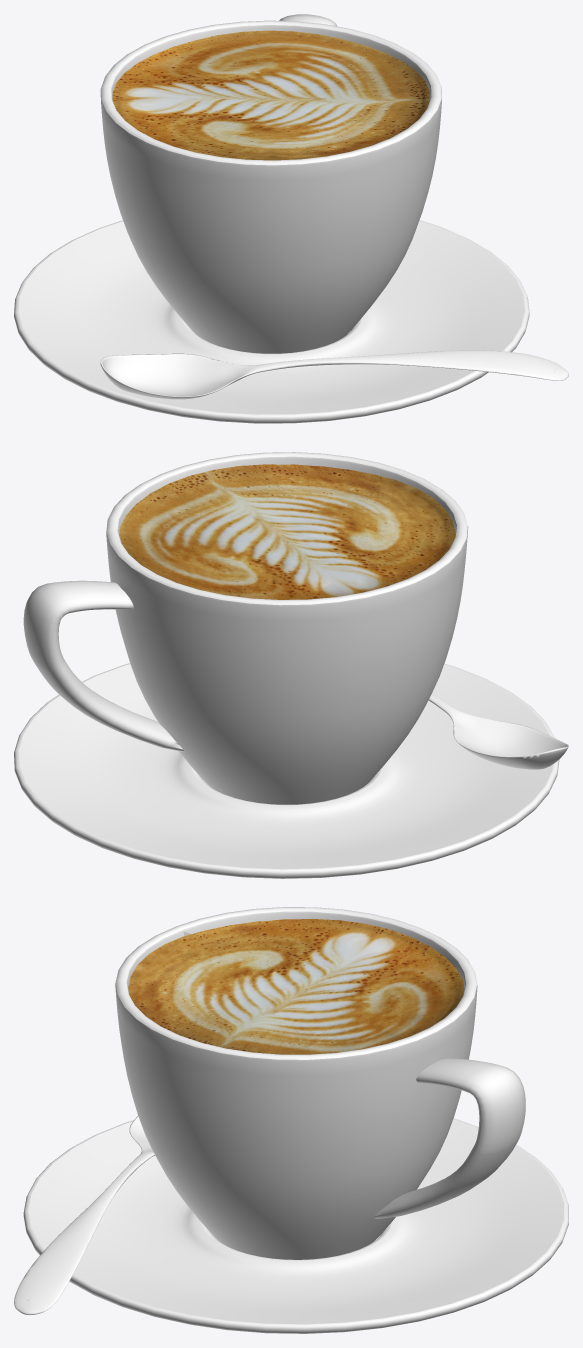
File: CafeMesaUno.obj
3 views of the same model, one above another, from view 1: azimuth 30°, elevation 25°; view 2: azimuth 150°, elevation 25°; view 3: azimuth 270°, elevation 25° (orthographic). The views are drawn at different scales.
Visible parts, largest first — view 1: ShowcaseFinal23:ShowcaseFinal:StrBucks:Cup1 group25 pasted__poly, pasted__polySurface2687 ShowcaseFinal23:ShowcaseFinal:StrBucks:C; view 2: ShowcaseFinal23:ShowcaseFinal:StrBucks:Cup1 group25 pasted__poly, pasted__polySurface2687 ShowcaseFinal23:ShowcaseFinal:StrBucks:C; view 3: ShowcaseFinal23:ShowcaseFinal:StrBucks:Cup1 group25 pasted__poly, pasted__polySurface2687 ShowcaseFinal23:ShowcaseFinal:StrBucks:C.
Part boxes in pixels (box(x1,y1,x2,y2)): ShowcaseFinal23:ShowcaseFinal:StrBucks:Cup1 group25 pasted__poly: box(100, 14, 568, 399); pasted__polySurface2687 ShowcaseFinal23:ShowcaseFinal:StrBucks:C: box(14, 220, 529, 423); ShowcaseFinal23:ShowcaseFinal:StrBucks:Cup1 group25 pasted__poly: box(23, 452, 568, 804); pasted__polySurface2687 ShowcaseFinal23:ShowcaseFinal:StrBucks:C: box(14, 663, 559, 878); ShowcaseFinal23:ShowcaseFinal:StrBucks:Cup1 group25 pasted__poly: box(14, 907, 525, 1314); pasted__polySurface2687 ShowcaseFinal23:ShowcaseFinal:StrBucks:C: box(23, 1118, 568, 1333).
Size of the model in its own units: 0.3023 by 0.1701 by 0.3074.
Materials: 4 (4 with a texture image).
